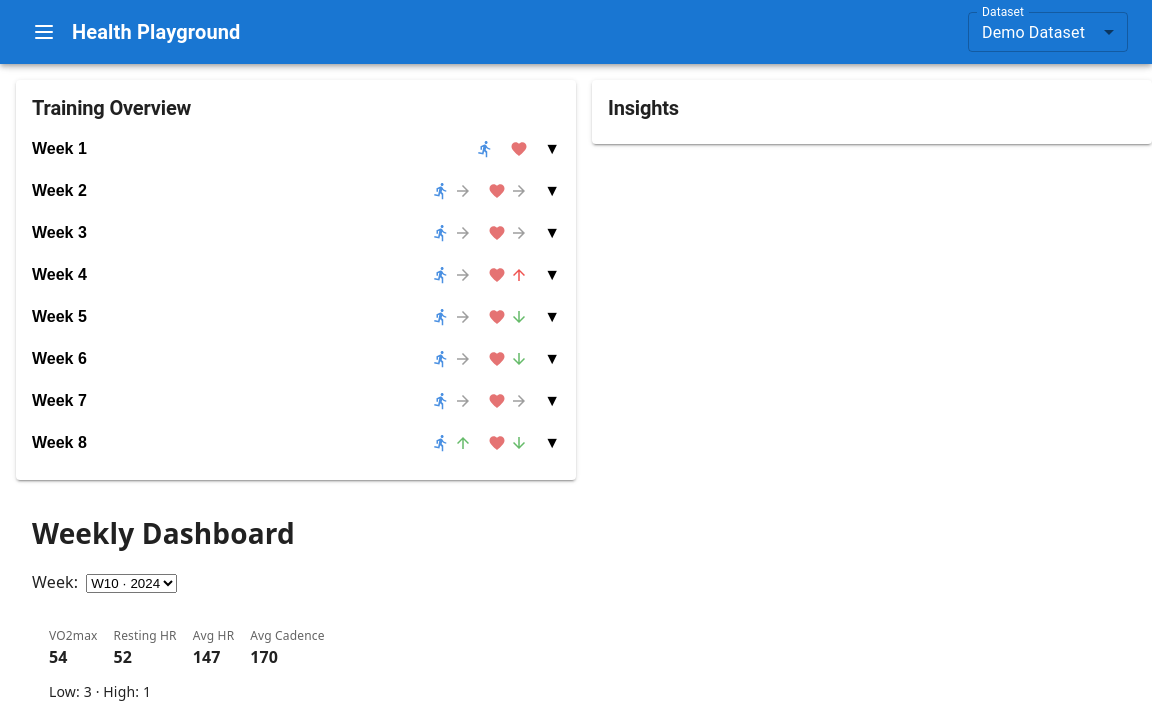
Top Bar Navigation Menu — Gherkin Scenarios › Scenario 4: clicking Home item closes menu, navigates to root, and content-area is visible
// Open the menu
Click the button with test id "nav-menu-trigger" at [44, 32], box [24,12,64,52]
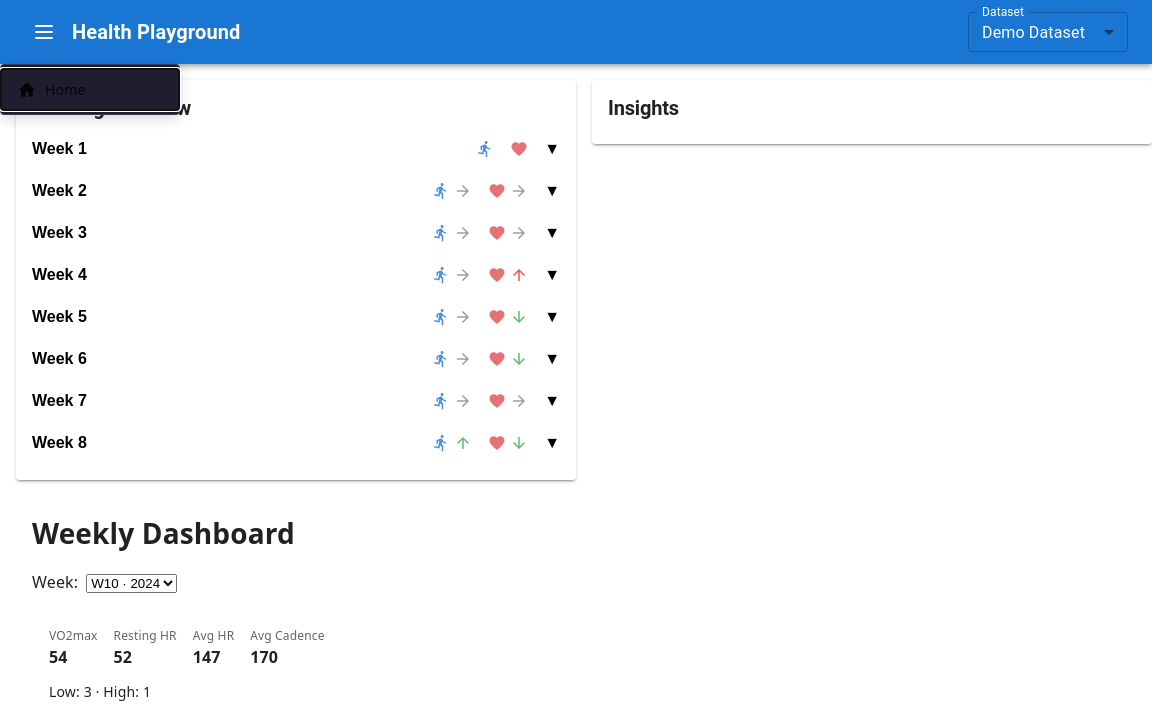
Expected: the menu with test id "nav-menu" is shown, [0,64,180,115]
// Click Home
Click the menu item with test id "nav-menu-item-home" at [51, 90], box [17,80,85,100]
(page scrolled)
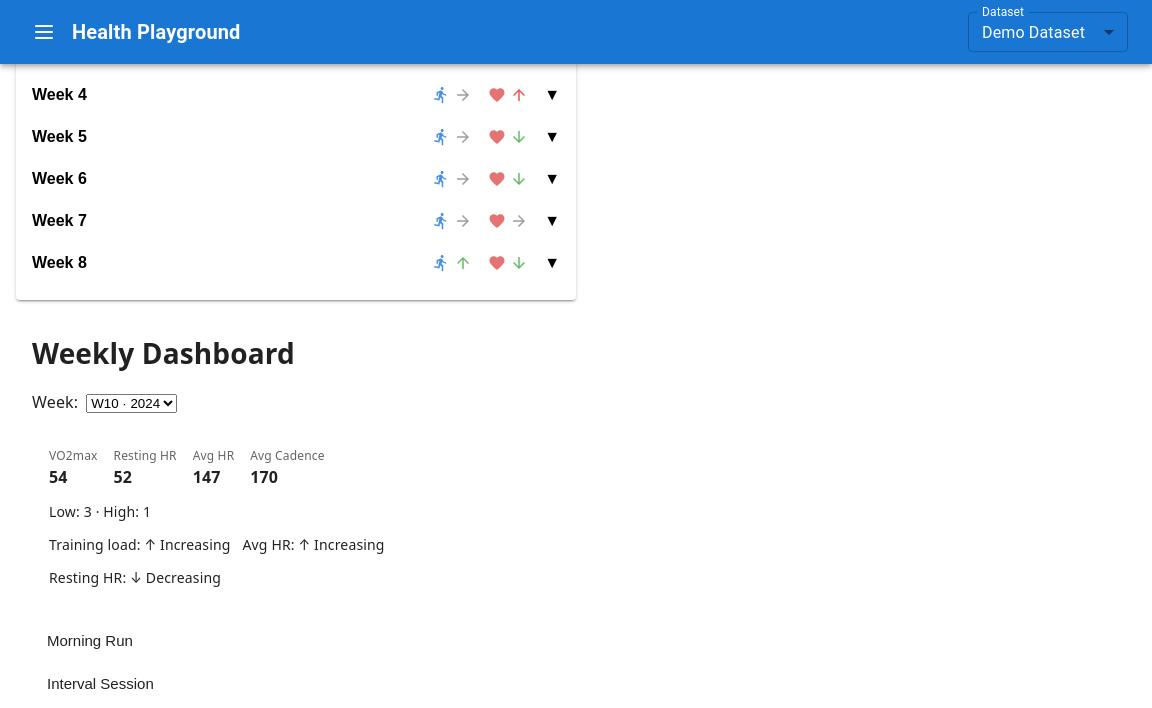
Expected: the menu with test id "nav-menu" is gone
